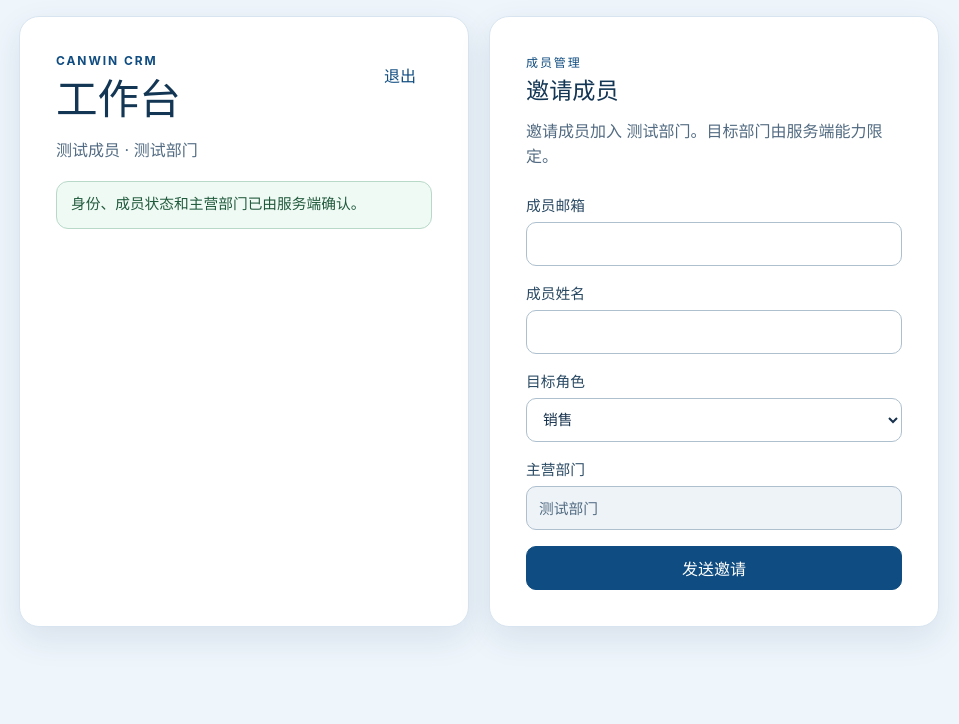
Scenario: CanWin CRM authentication experience › shows only allowed target roles and prevents duplicate invitation submission
The image size is (959, 724).
Check: the heading "邀请成员" is shown, box [526,77,619,105]
In the field labelled "成员邮箱": point(714, 244) [526,222,902,266], type "new@example.com"
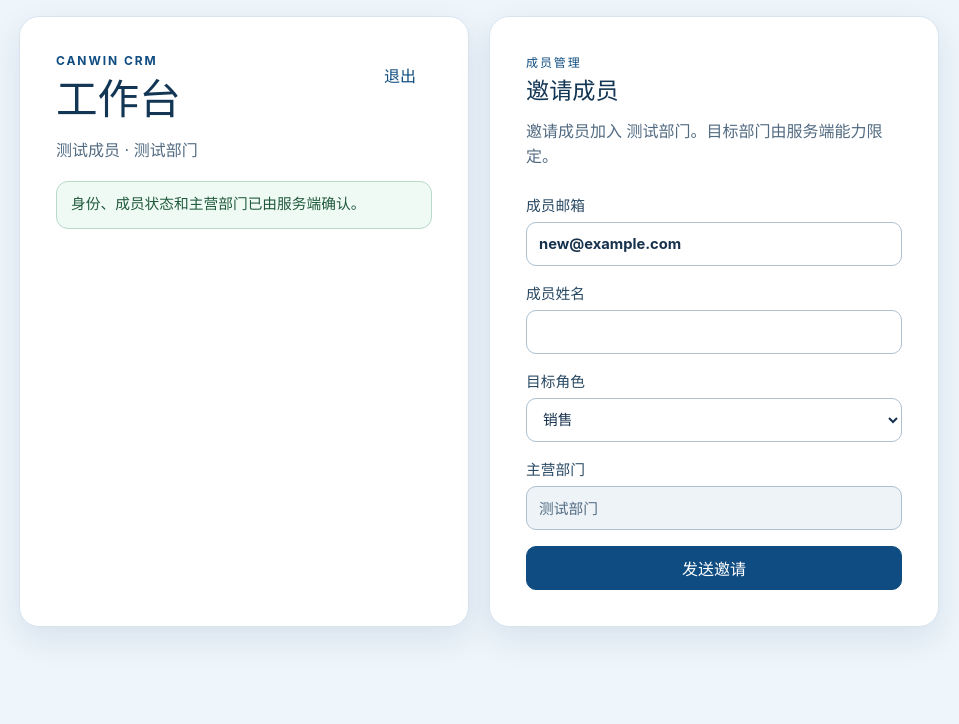
In the field labelled "成员姓名": point(714, 332) [526,310,902,354], type "新成员"
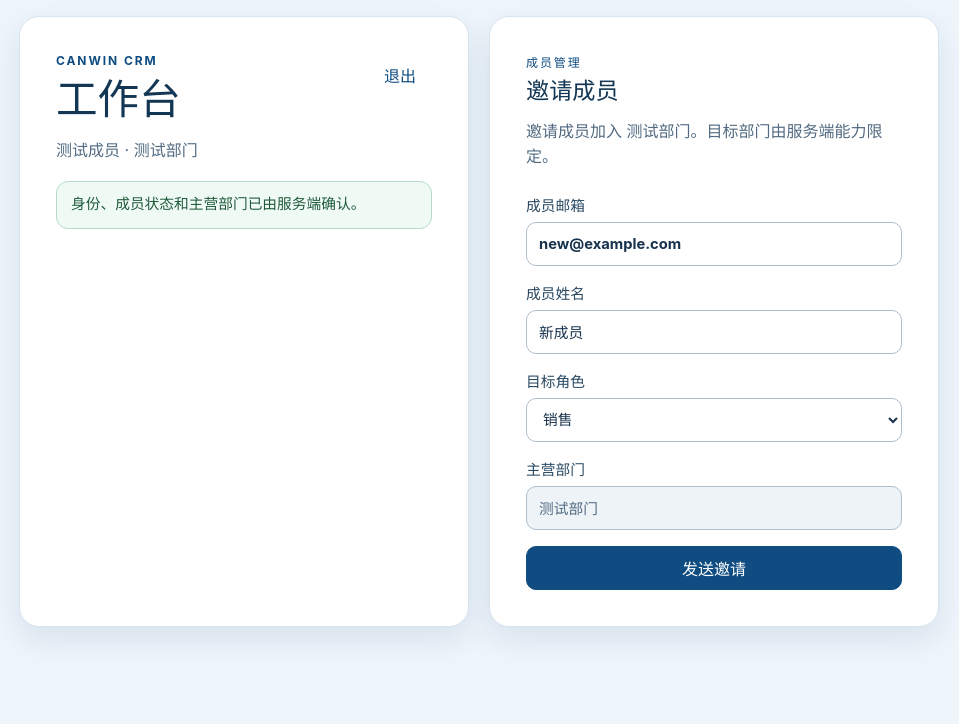
Click the button "发送邀请": point(714, 568) [526,546,902,590]
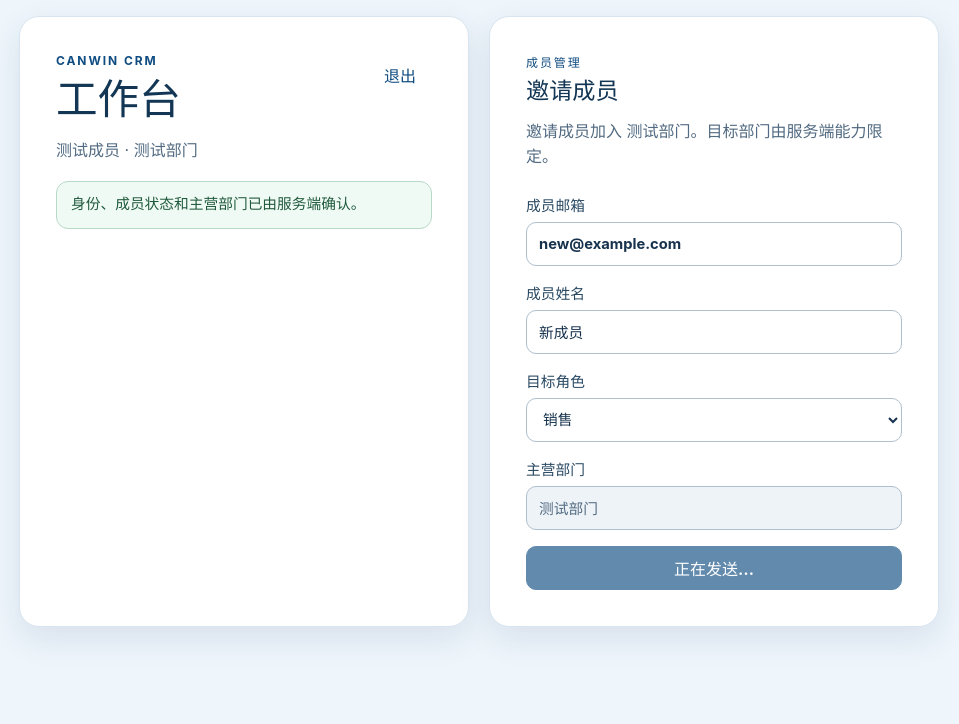
Click the button named "发送邀请": point(714, 568) [526,546,902,590]
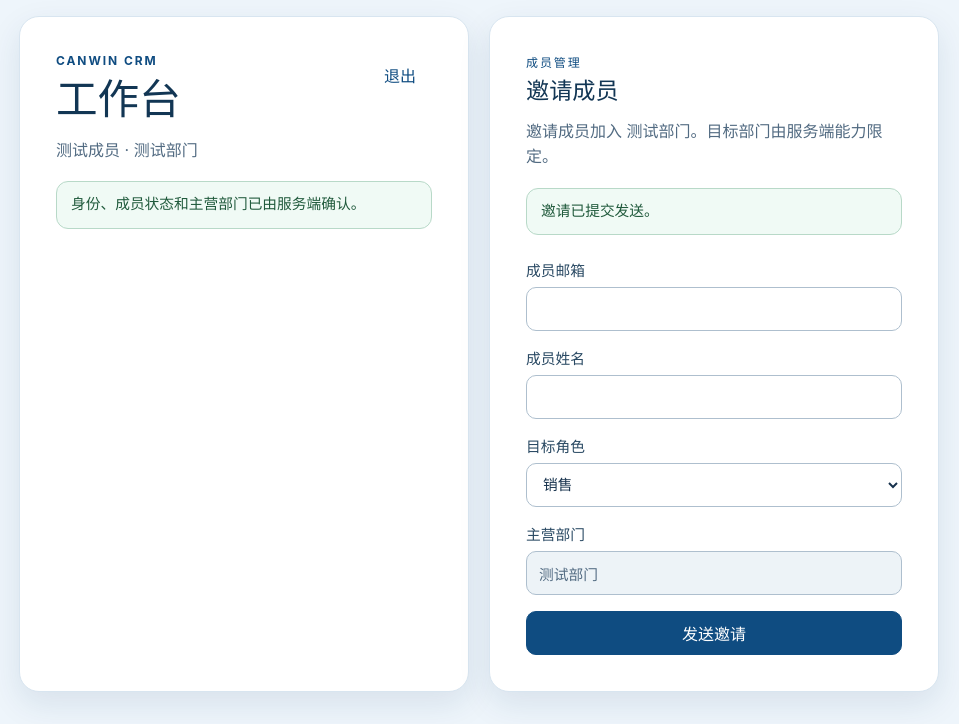
Check: the text "邀请已提交发送。" is shown, box [526,188,902,235]
